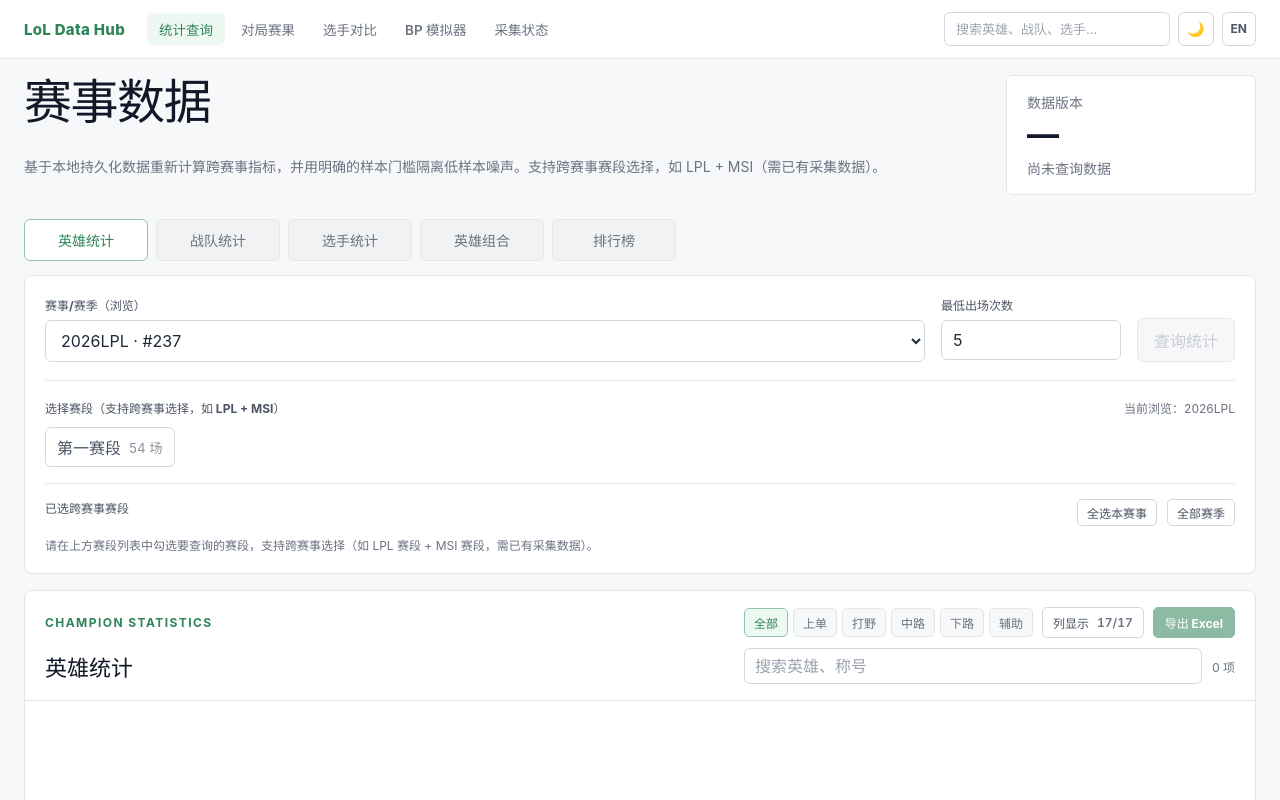
Test: 查询状态 › 拒绝非整数或超出范围的样本门槛
Replace the text in the number field with id "minimum" with "10000.5": (1031, 340) [941, 320, 1121, 360]
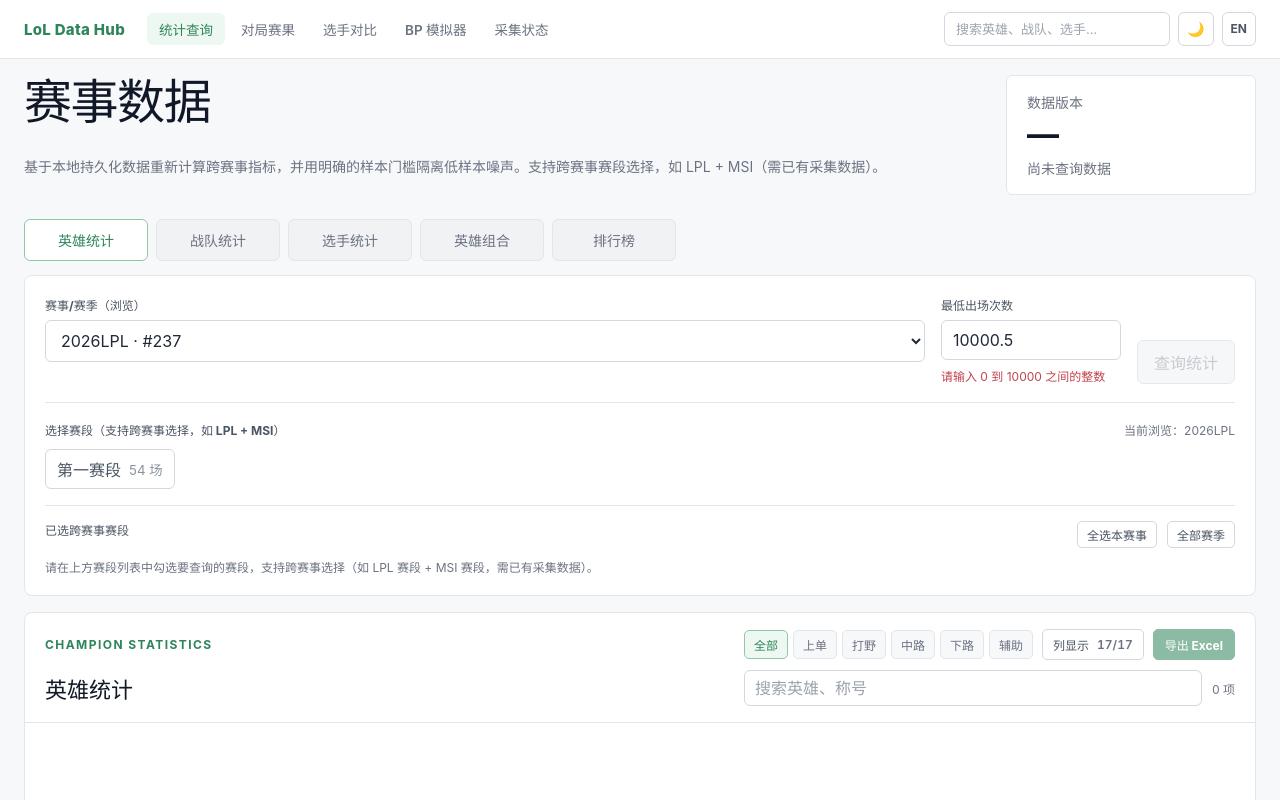
Expected: the button "查询统计" is disabled, [1137, 340, 1235, 384]
Expected: the text with class "field-error" shows "0 到 10000 之间的整数", [941, 369, 1105, 384]
